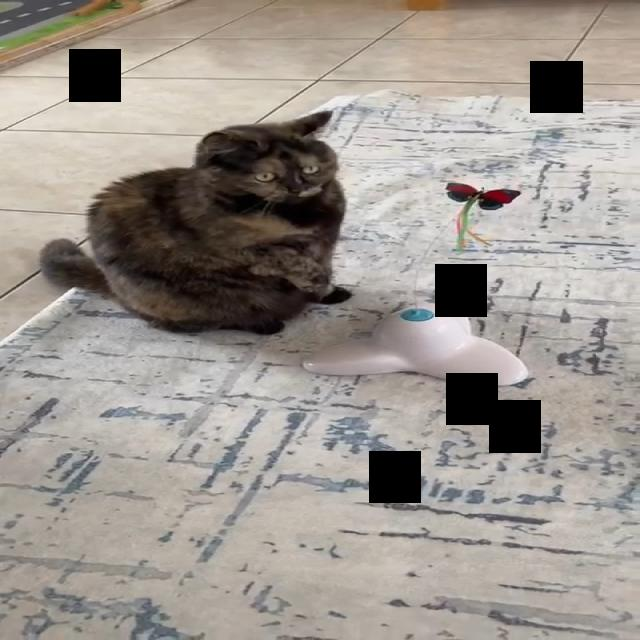authorized: (37, 110, 352, 335)
